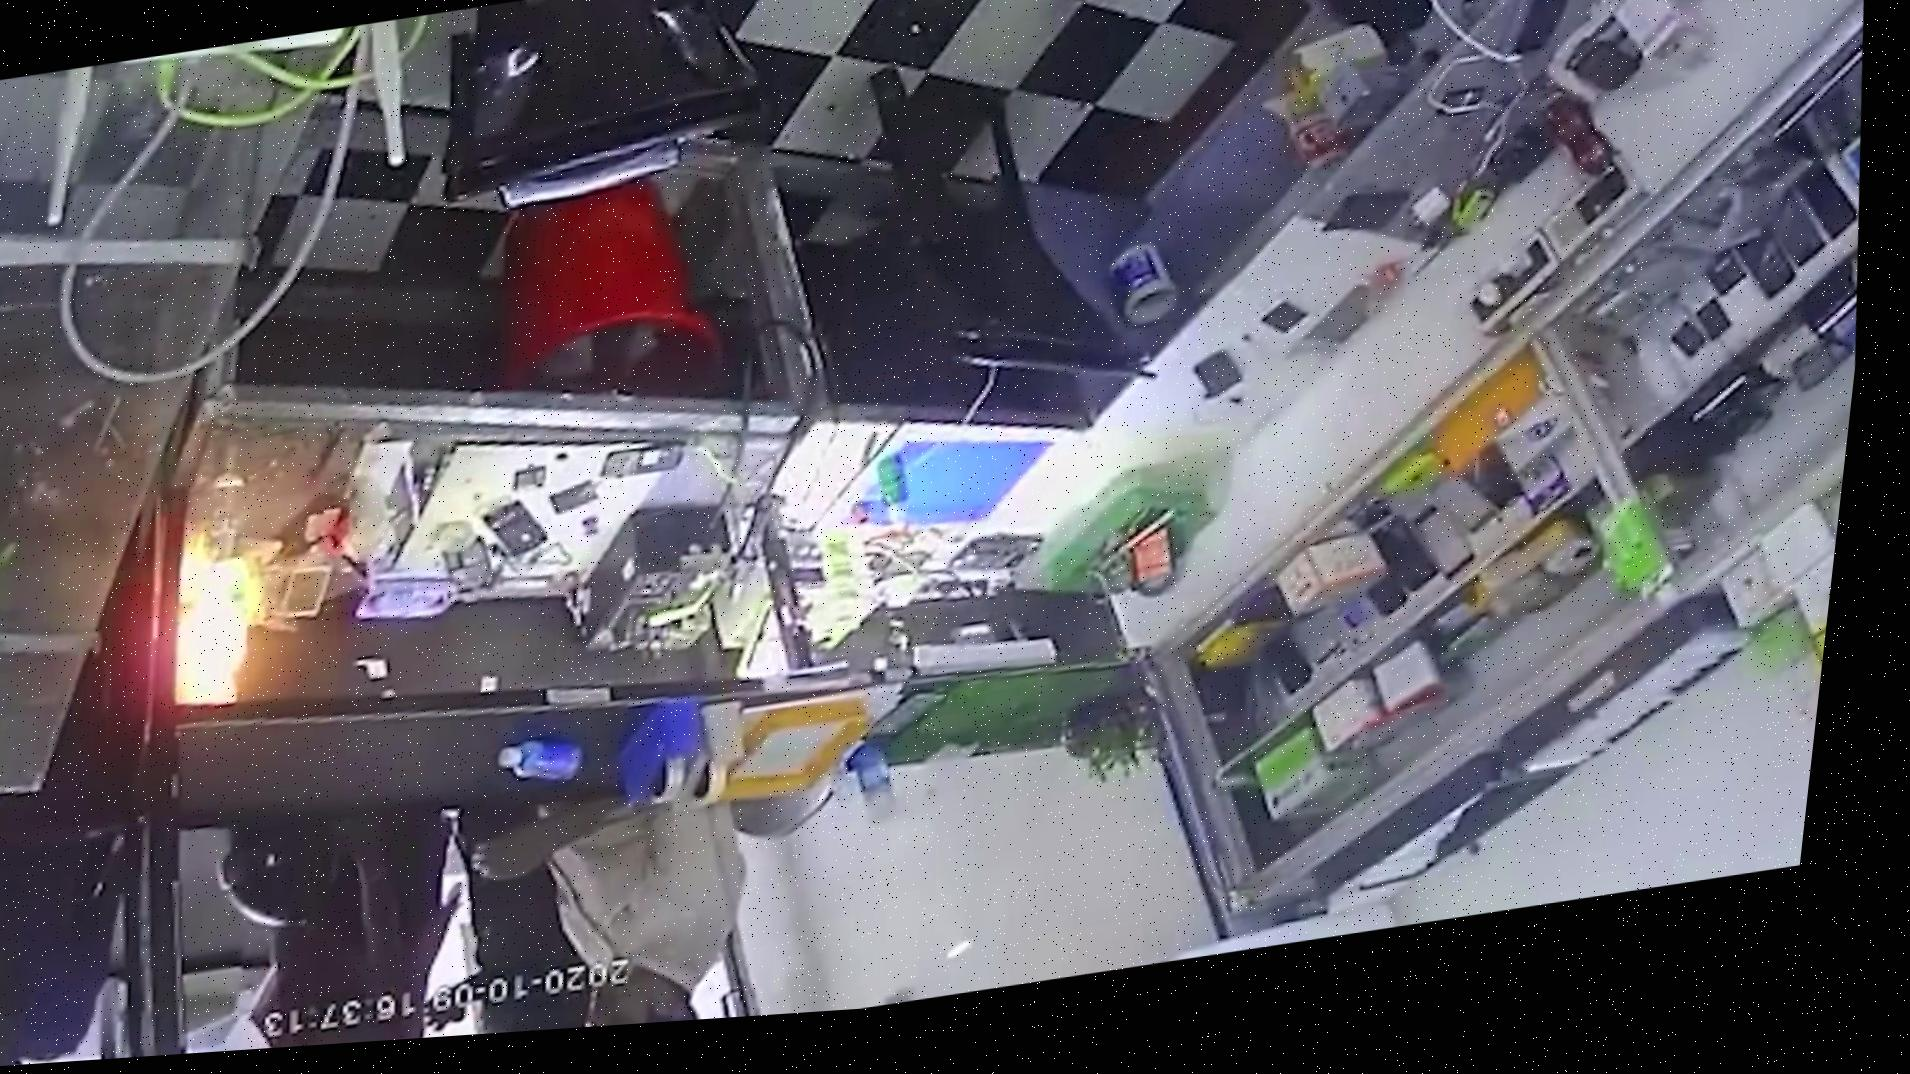fire: (85, 431, 348, 824)
